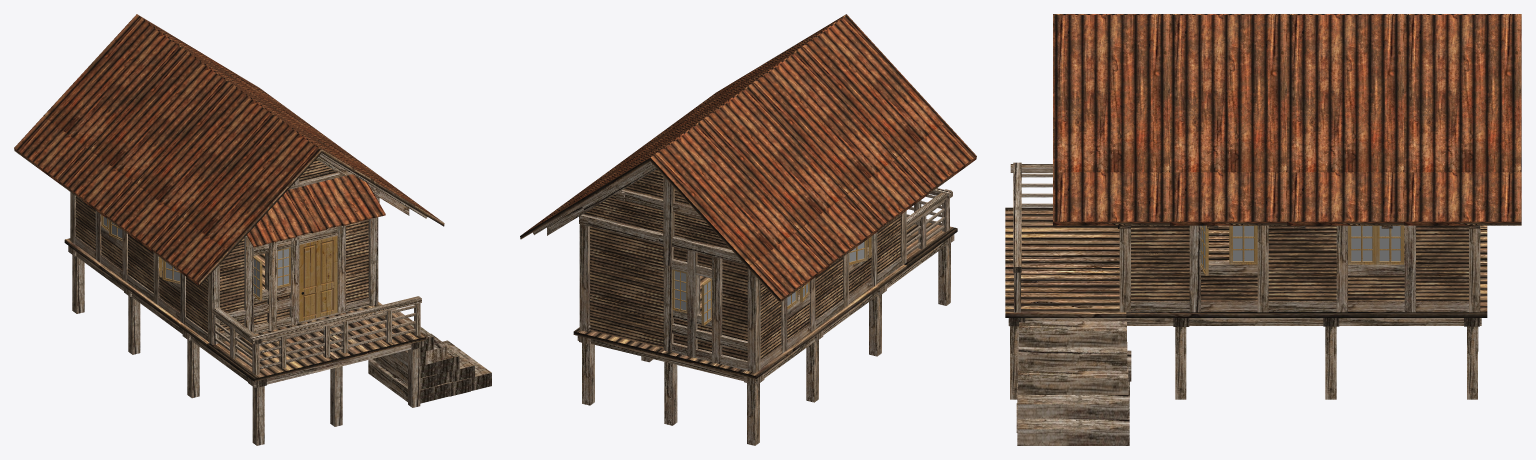
Rendered from house.glb.
3 renders of one model, left to right at view 1: azimuth 30°, elevation 25°; view 2: azimuth 150°, elevation 25°; view 3: azimuth 270°, elevation 25°, orthographic. The views are drawn at different scales.
Parts seen in each view (by area): view 1: main roof, walls, base 3, base2, base1, roof 2, stairs, door, roof base1, window front right; view 2: main roof, walls, base 3, base2, base1, roof base1, window rear right, window rear left; view 3: main roof, walls, base2, stairs, base 3, base1, window1 left, window2 left, window2 right.
Part boxes in pixels (box(x1,y1,x2,y2)): main roof: box(14, 14, 444, 286); walls: box(70, 159, 379, 344); base 3: box(68, 246, 423, 445); base2: box(64, 238, 426, 381); base1: box(212, 296, 421, 375); roof 2: box(246, 174, 385, 247); stairs: box(368, 309, 491, 403); door: box(299, 235, 337, 321); roof base1: box(316, 153, 427, 218); window front right: box(277, 247, 290, 288); main roof: box(520, 14, 976, 302); walls: box(579, 169, 906, 372); base 3: box(577, 234, 954, 445); base2: box(573, 222, 957, 379); base1: box(906, 188, 952, 255); roof base1: box(533, 161, 656, 235); window rear right: box(672, 269, 687, 313); window rear left: box(701, 278, 711, 325); main roof: box(1053, 14, 1521, 225); walls: box(1119, 225, 1480, 312); base2: box(1005, 207, 1487, 317); stairs: box(1016, 321, 1131, 445); base 3: box(1008, 318, 1481, 399); base1: box(1010, 162, 1052, 312); window1 left: box(1229, 225, 1257, 264); window2 left: box(1376, 225, 1404, 264); window2 right: box(1348, 225, 1375, 264).
Bounding box in the file's own units: 10.26 × 9.3 × 12.97.
5 materials, 3 textured.
